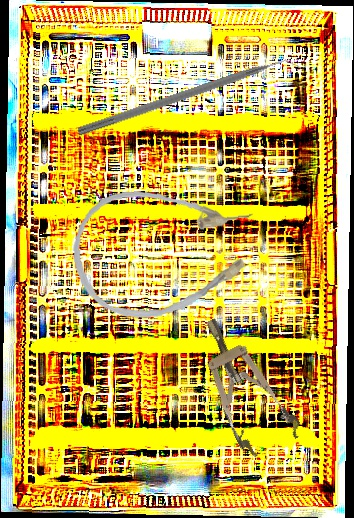Cannula: (68, 181, 262, 324)
Chopper: (76, 51, 306, 148)
Speculum: (182, 305, 306, 463)
